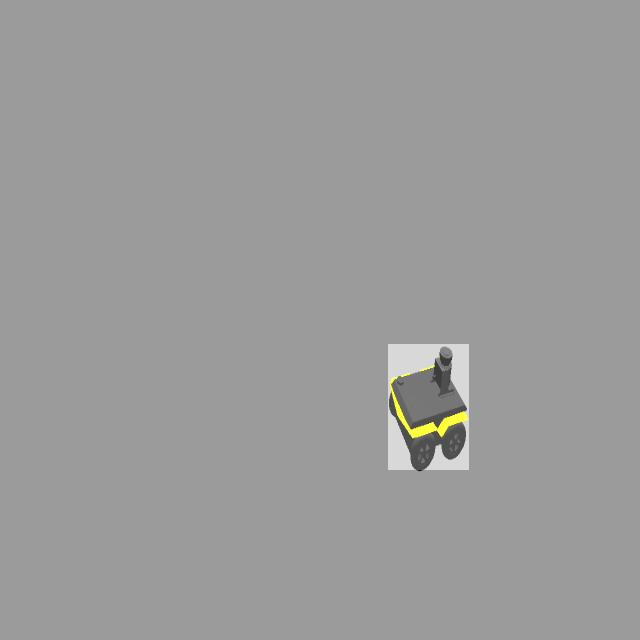jackal: (388, 344, 469, 470)
